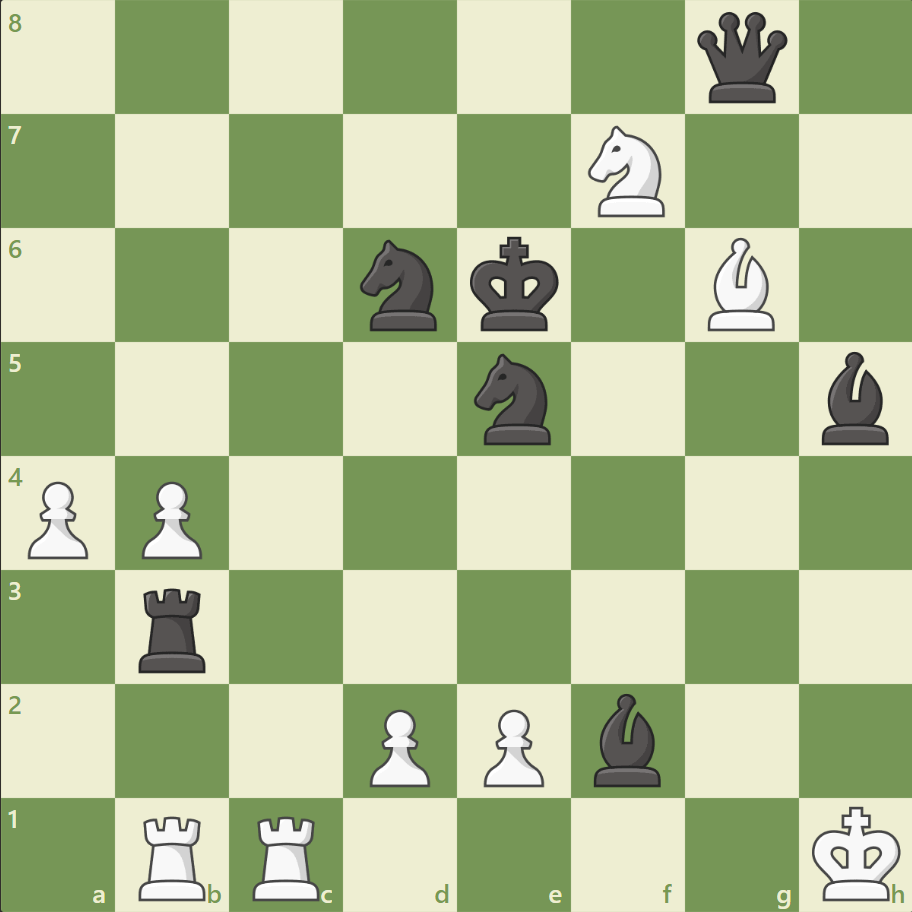B: (698, 233, 782, 336)
K: (806, 798, 906, 906)
N: (579, 121, 676, 223)
P: (20, 473, 95, 564), (133, 473, 208, 564), (474, 700, 549, 791), (361, 700, 435, 791)
R: (246, 806, 329, 904), (133, 806, 215, 904)
b: (585, 687, 669, 790), (812, 347, 896, 449)
k: (465, 231, 565, 339)
n: (351, 234, 449, 337), (465, 348, 562, 450)
q: (691, 9, 790, 108)
r: (133, 579, 215, 676)
